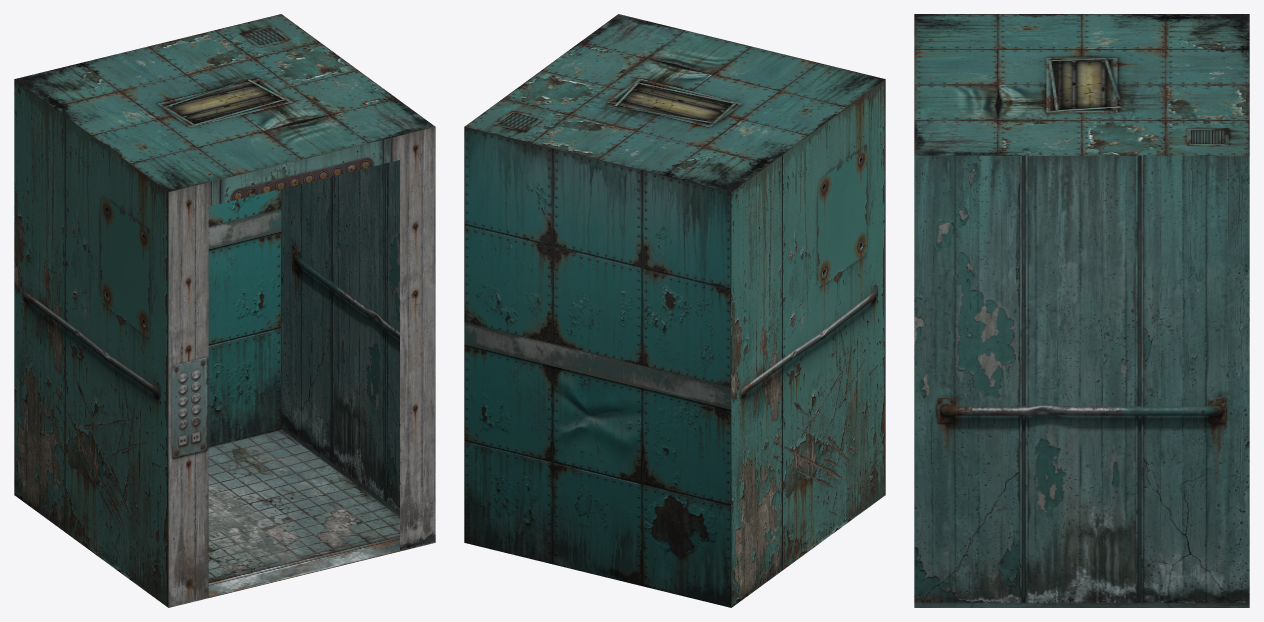
Rendered from elevator-1.glb.
3 renders of one model, left to right at view 1: azimuth 30°, elevation 25°; view 2: azimuth 150°, elevation 25°; view 3: azimuth 270°, elevation 25°, orthographic. The views are drawn at different scales.
Parts seen in each view (by area): view 1: walls, ceiling, floor; view 2: walls, ceiling; view 3: walls, ceiling.
Part boxes in pixels (x1,y1,x2,y2): walls: (14,79,435,607); ceiling: (14,14,435,191); floor: (208,430,399,597); walls: (464,79,885,607); ceiling: (464,14,885,191); walls: (914,155,1249,607); ceiling: (914,14,1249,155).
Size of the model in its own units: 1.5 by 2.23 by 1.5.
Materials: 6 (6 with a texture image).
